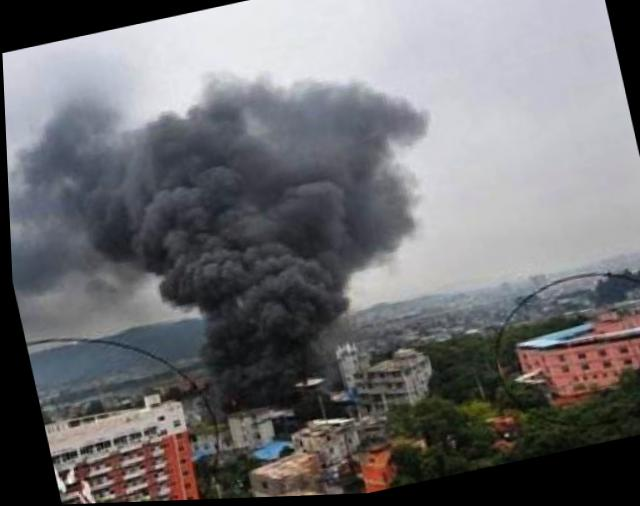smoke: (10, 61, 325, 332), (282, 63, 461, 273), (190, 268, 366, 417)
